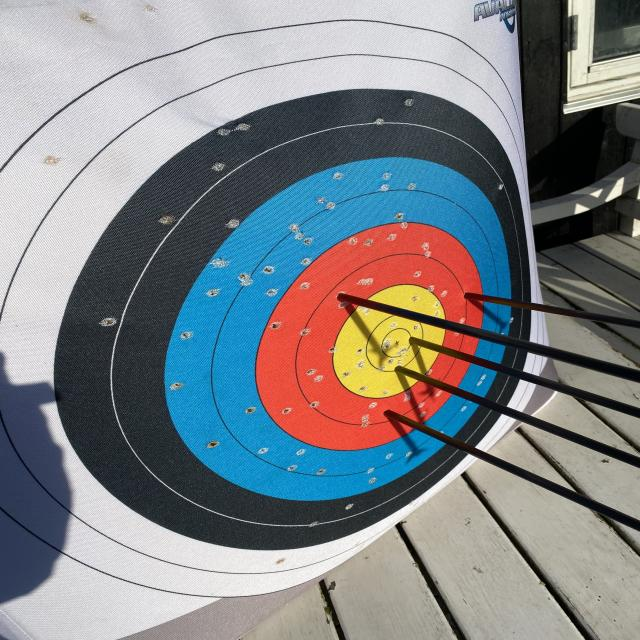Arrow_Red: (315, 274, 365, 316), (367, 395, 409, 434), (448, 278, 484, 316)
Arrow_Yellow: (390, 322, 430, 357), (382, 361, 430, 390)
